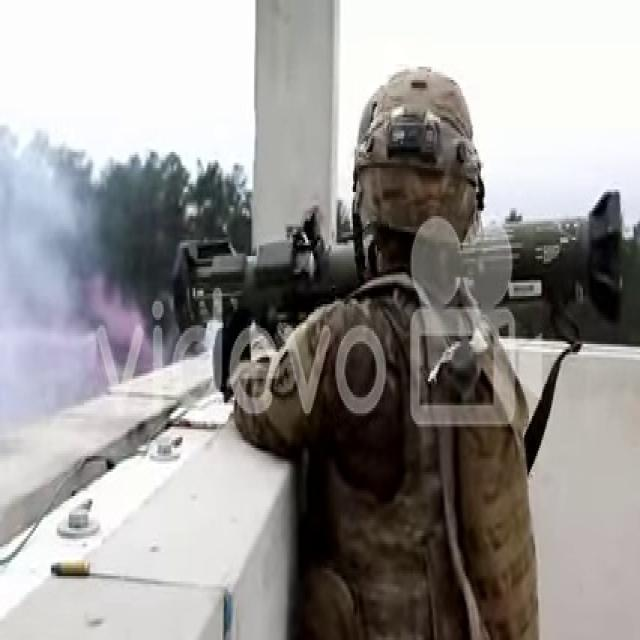bazooka: (172, 184, 627, 384)
